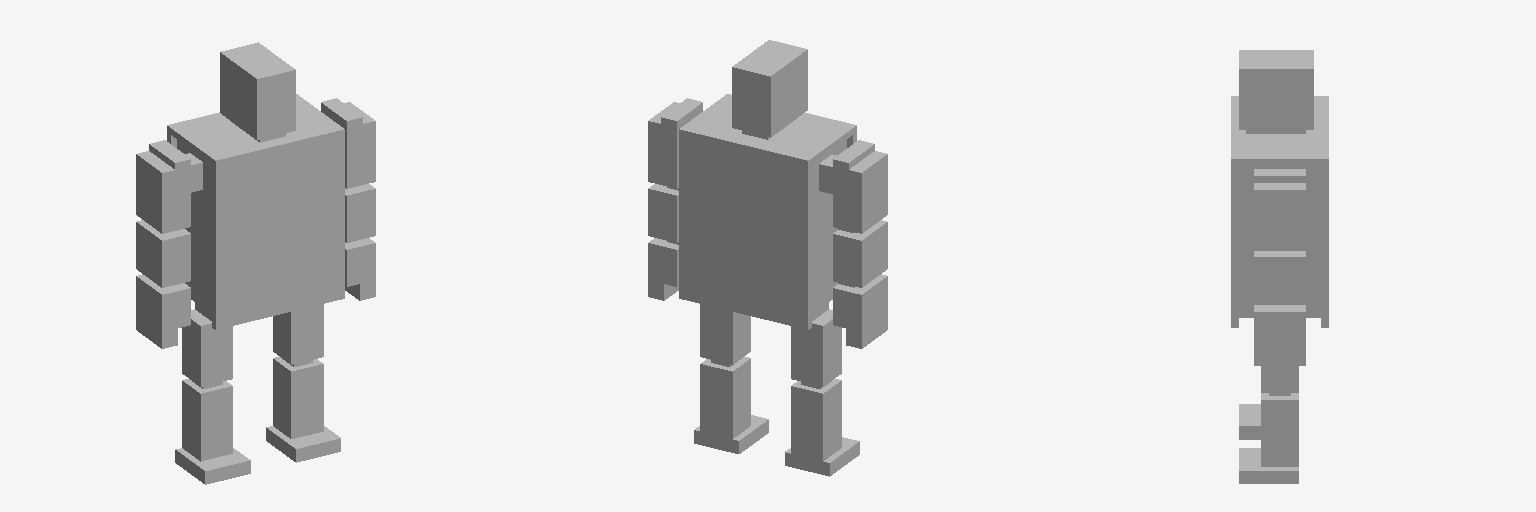
Rendered from Robot.obj.
3 views of the same model, side by side, from view 1: azimuth 30°, elevation 25°; view 2: azimuth 150°, elevation 25°; view 3: azimuth 270°, elevation 25° (orthographic).
Bounding box in the file's own units: 66 × 116 × 26.